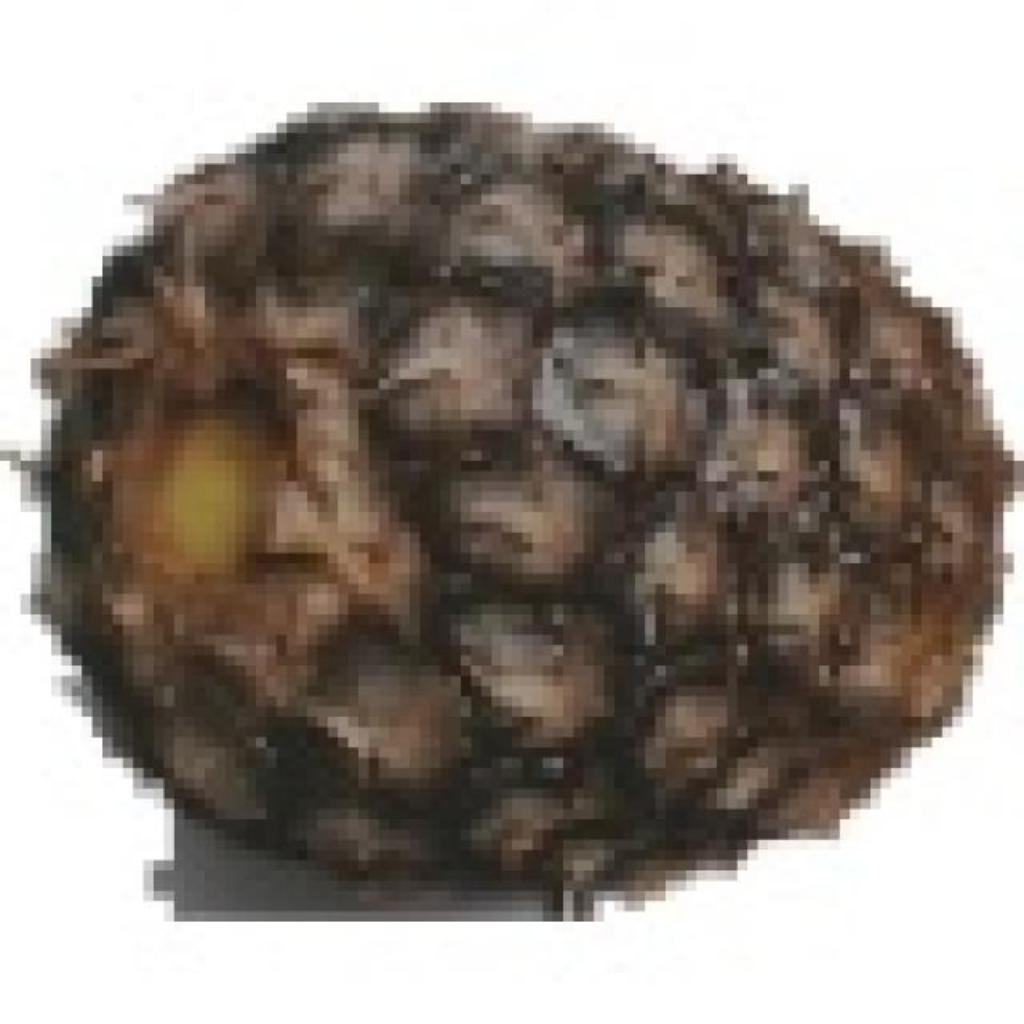pineapple: (61, 92, 1014, 891)
